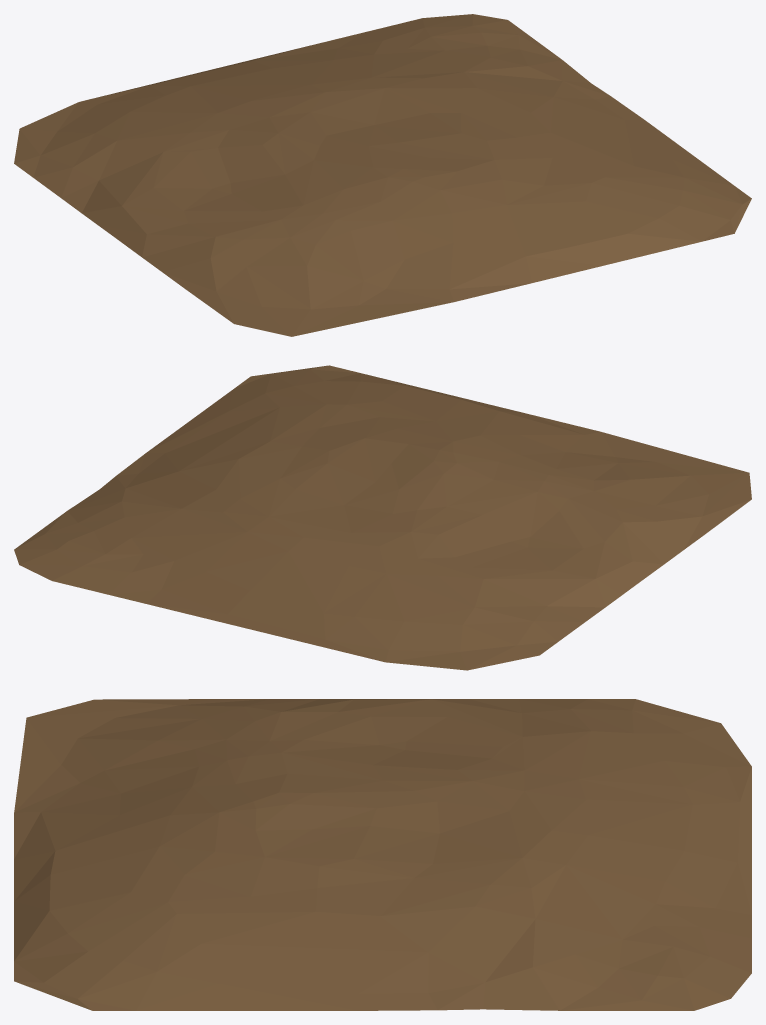
File: SM_Envr_Nature_Terrain_Ground_Dirt_03.fbx
The picture shows the model from 3 angles, top to bottom: view 1: azimuth 30°, elevation 25°; view 2: azimuth 150°, elevation 25°; view 3: azimuth 270°, elevation 25°; orthographic projection. The views are drawn at different scales.
Visible parts, largest first — view 1: SM_Envr_Nature_Terrain_Ground_Dirt_03; view 2: SM_Envr_Nature_Terrain_Ground_Dirt_03; view 3: SM_Envr_Nature_Terrain_Ground_Dirt_03.
Part boxes in pixels (box(x1,y1,x2,y2)): SM_Envr_Nature_Terrain_Ground_Dirt_03: box(14, 14, 751, 336); SM_Envr_Nature_Terrain_Ground_Dirt_03: box(14, 365, 751, 670); SM_Envr_Nature_Terrain_Ground_Dirt_03: box(14, 699, 751, 1010).
Bounding box in the file's own units: 1000 × 67.54 × 1000.
